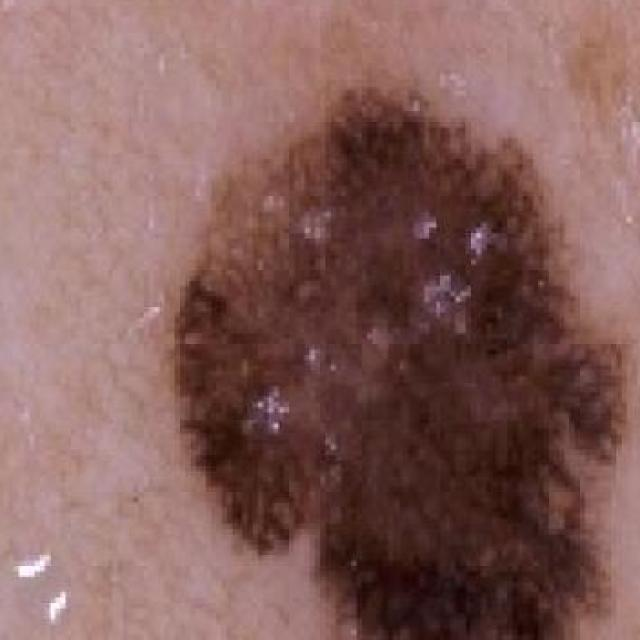MEL: (162, 81, 629, 640)
